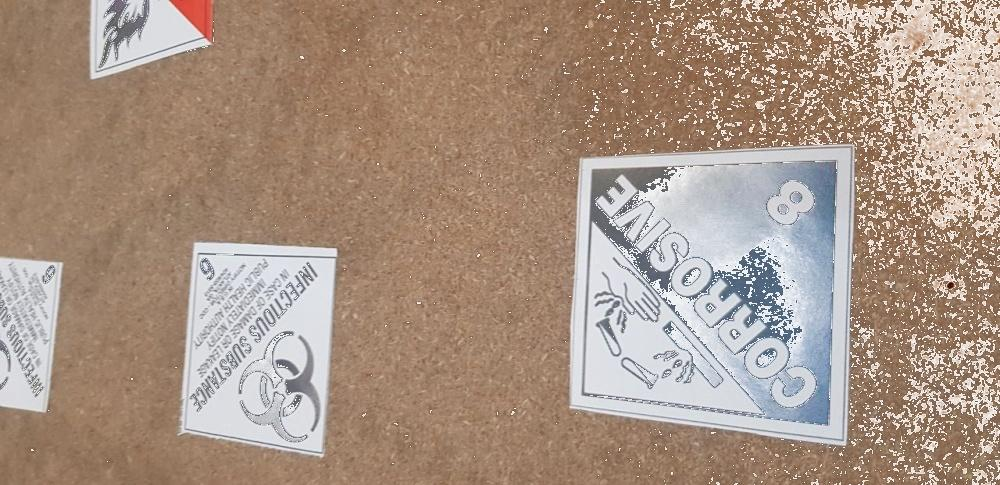corrosive: (571, 144, 858, 444)
infectious-substance: (175, 240, 338, 461), (1, 259, 64, 415)
spontaneously-combustible: (95, 1, 211, 77)
